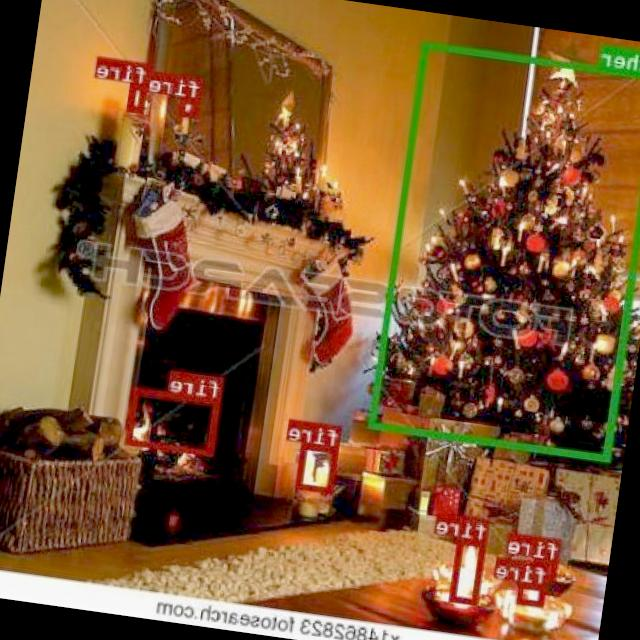fire: (127, 387, 222, 456), (451, 536, 488, 604), (296, 441, 341, 494), (517, 580, 548, 607), (532, 558, 560, 581), (129, 82, 150, 112), (180, 96, 202, 118)
